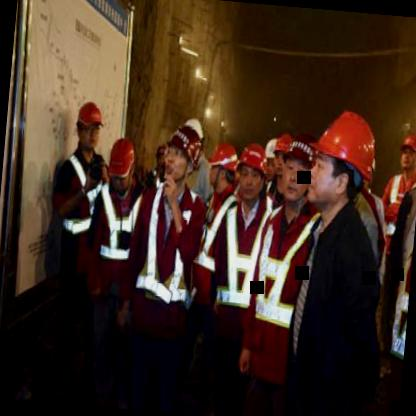helmet: (308, 108, 378, 218), (162, 122, 204, 194), (278, 136, 317, 205), (102, 136, 141, 200), (72, 97, 109, 156), (164, 128, 197, 191), (176, 117, 209, 178), (238, 143, 269, 202), (208, 142, 240, 194), (274, 130, 296, 182), (261, 138, 281, 188), (395, 128, 416, 173)
